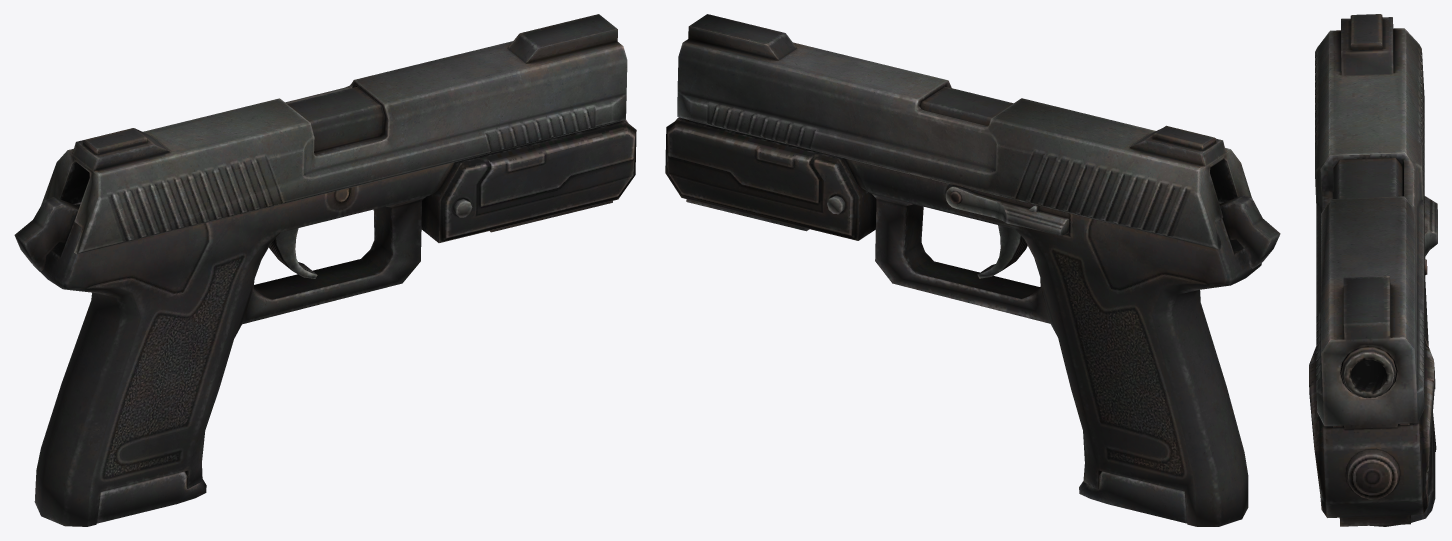
The model's file is pistol2_000019.obj.
3 views of the same model, side by side, from view 1: azimuth 30°, elevation 25°; view 2: azimuth 150°, elevation 25°; view 3: azimuth 270°, elevation 25° (orthographic). The views are drawn at different scales.
Parts seen in each view (by area): view 1: Pistol; view 2: Pistol; view 3: Pistol.
Boxes of the visible parts, box(x1,y1,x2,y2) form: Pistol: box(14, 14, 636, 526); Pistol: box(665, 14, 1280, 526); Pistol: box(1309, 14, 1437, 526).
Size of the model in its own units: 0.9462 by 0.5521 by 0.1446.
1 material, 1 textured.
